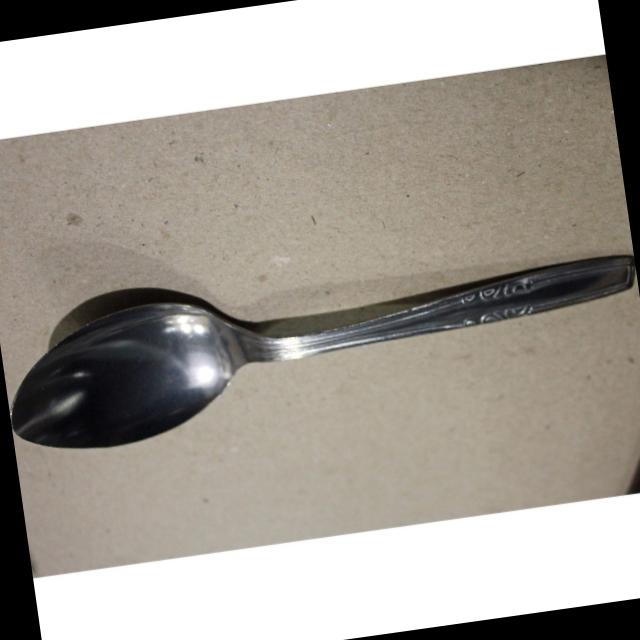spoon: (0, 225, 640, 471)
